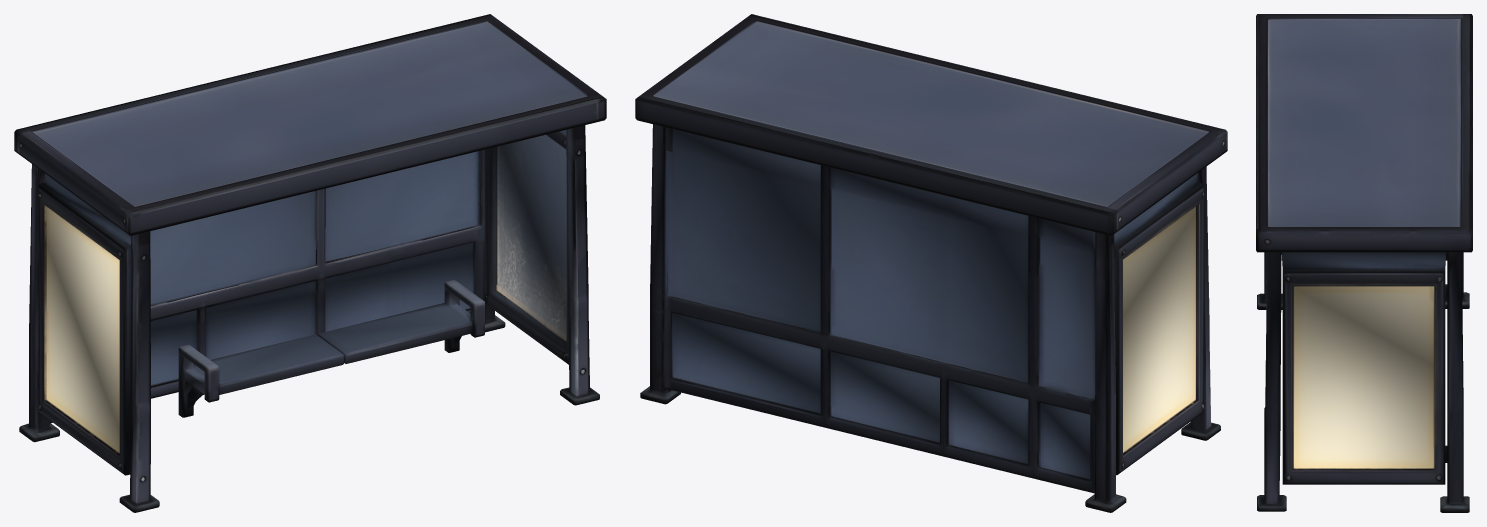
Rendered from shelter.glb.
3 views of the same model, side by side, from view 1: azimuth 30°, elevation 25°; view 2: azimuth 150°, elevation 25°; view 3: azimuth 270°, elevation 25° (orthographic). The views are drawn at different scales.
Parts seen in each view (by area): view 1: tripo_node_32c62739-c546-472d-9ca0-f6837822cfc9; view 2: tripo_node_32c62739-c546-472d-9ca0-f6837822cfc9; view 3: tripo_node_32c62739-c546-472d-9ca0-f6837822cfc9.
Boxes of the visible parts, bbox=[...] form: tripo_node_32c62739-c546-472d-9ca0-f6837822cfc9: bbox=[14, 14, 606, 512]; tripo_node_32c62739-c546-472d-9ca0-f6837822cfc9: bbox=[635, 14, 1227, 512]; tripo_node_32c62739-c546-472d-9ca0-f6837822cfc9: bbox=[1256, 14, 1472, 512].
Bounding box in the file's own units: 0.9941 × 0.5996 × 0.416.
1 material, 1 textured.
